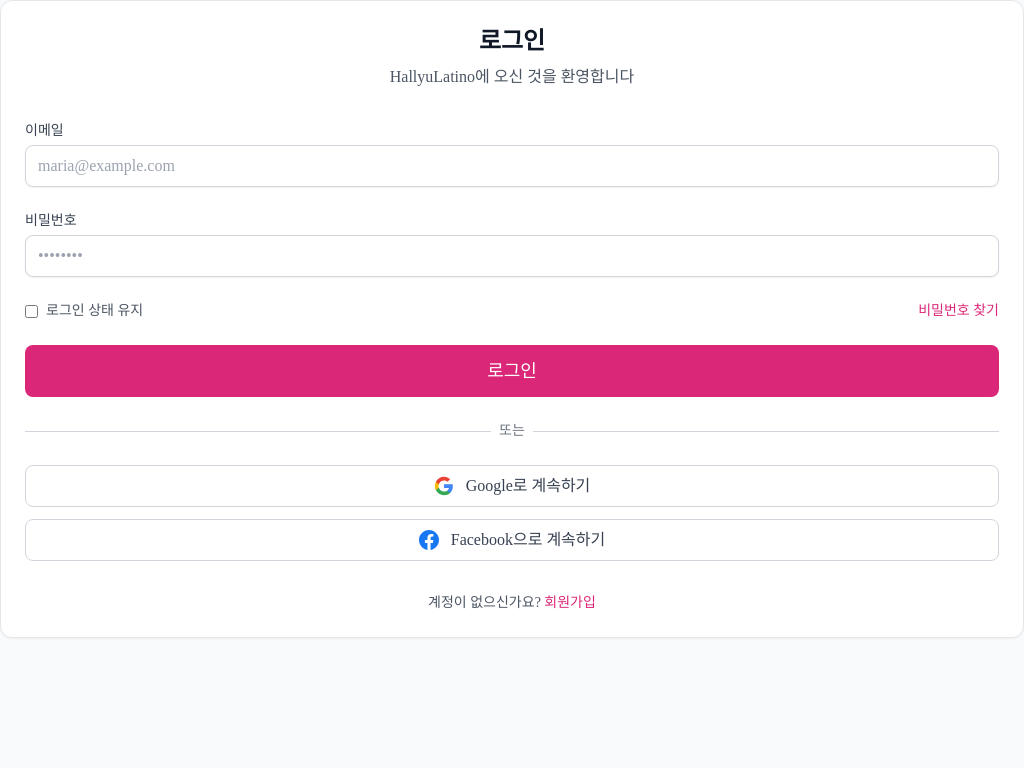
LoginForm › Validation › should_show_error_when_password_is_empty_on_submit
The image size is (1024, 768).
Type "test@example.com" into the field labelled "이메일" at x=512, y=166, box top-left (25, 145), bottom-right (999, 187)
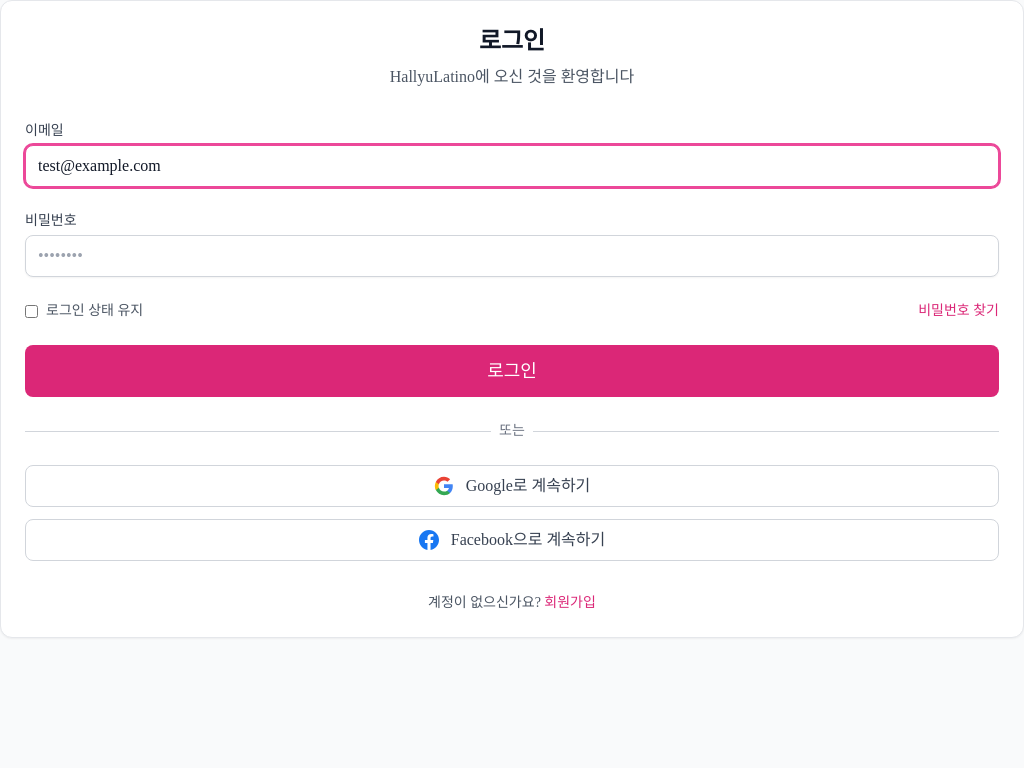
Click the button "로그인" at x=512, y=371, box top-left (25, 345), bottom-right (999, 397)
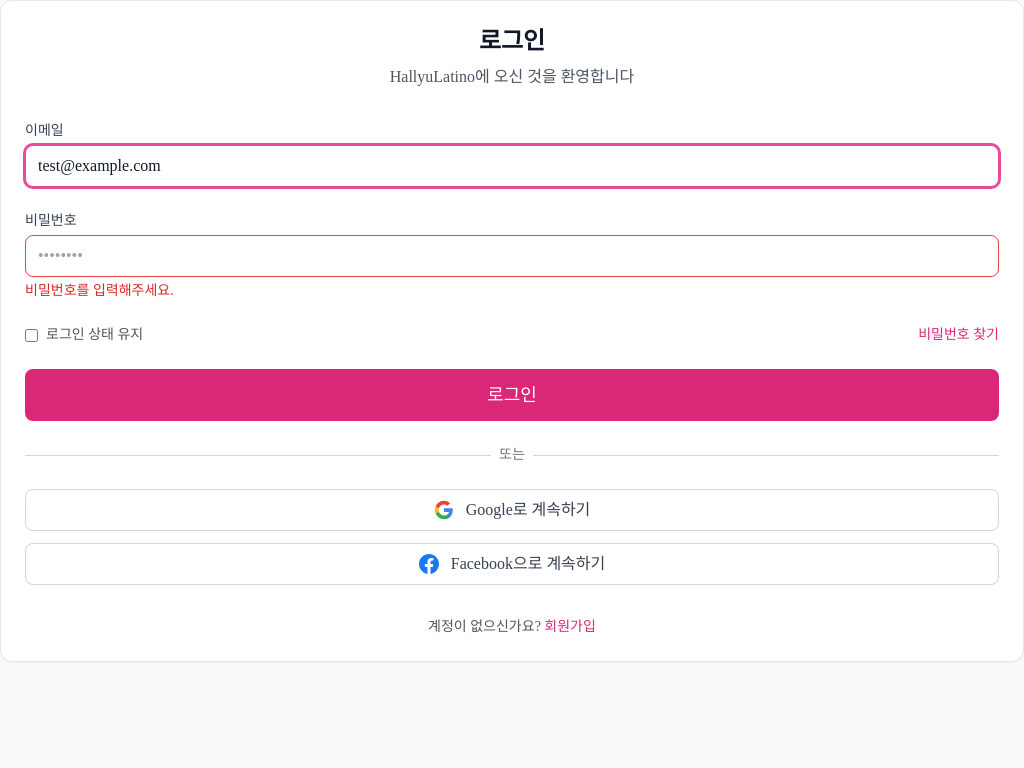
Check: the text "비밀번호를 입력해주세요." is shown, box top-left (25, 283), bottom-right (174, 298)
